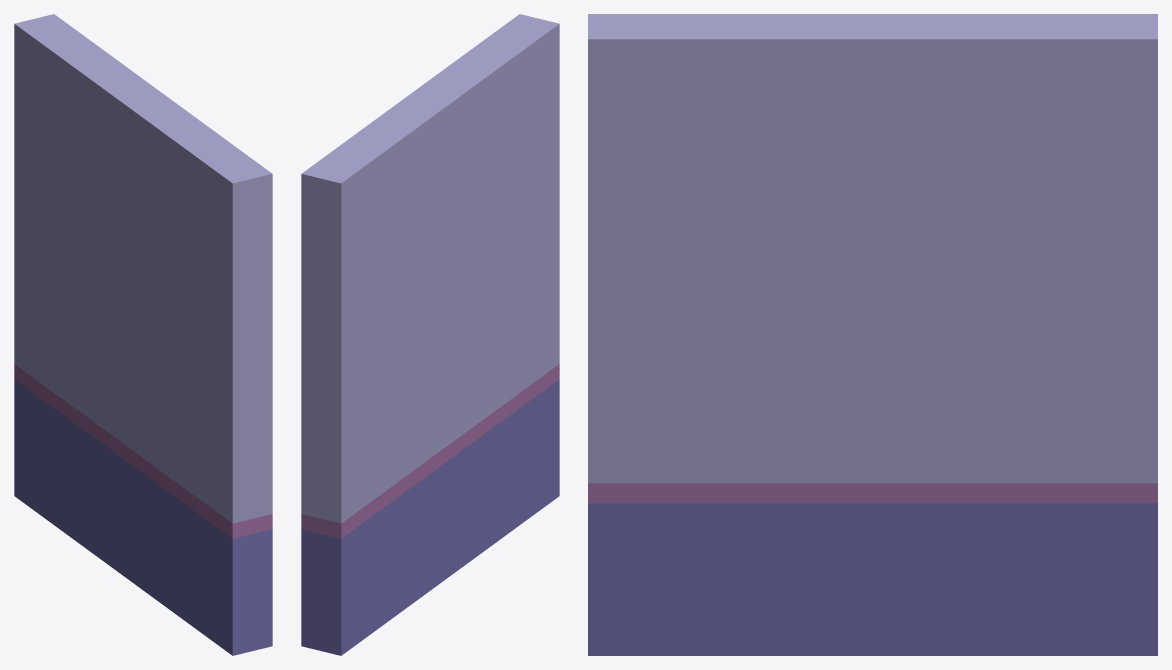
The model's file is Wall1.glb.
The picture shows the model from 3 angles, left to right: view 1: azimuth 30°, elevation 25°; view 2: azimuth 150°, elevation 25°; view 3: azimuth 270°, elevation 25°; orthographic projection. The views are drawn at different scales.
Parts seen in each view (by area): view 1: Wall4; view 2: Wall4; view 3: Wall4.
Boxes of the visible parts, bbox=[...] form: Wall4: bbox=[14, 14, 272, 655]; Wall4: bbox=[301, 14, 559, 655]; Wall4: bbox=[588, 14, 1157, 655].
Bounding box in the file's own units: 0.2194 × 2.49 × 2.08.
1 material, 1 textured.
